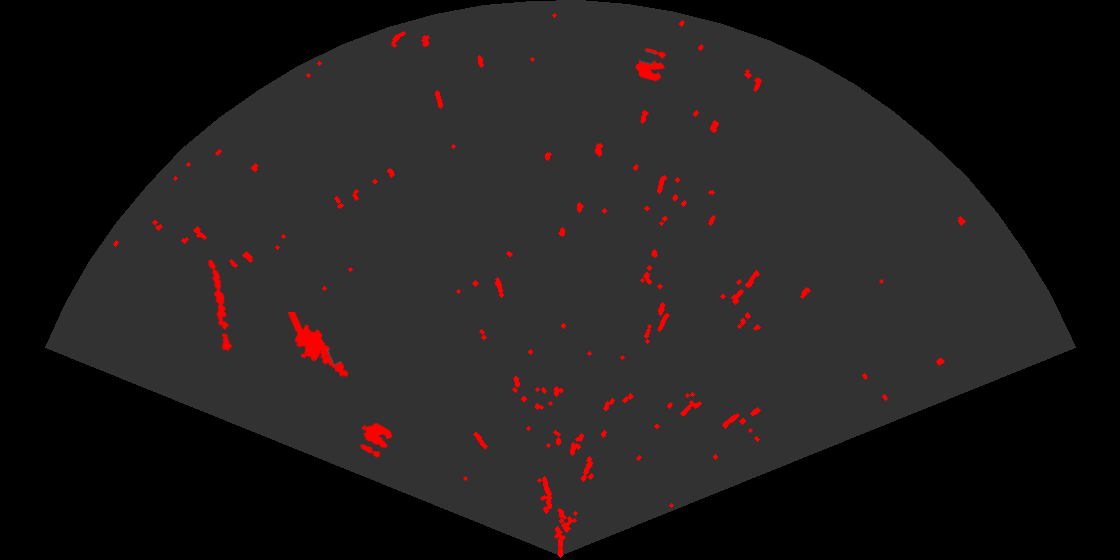ball: (358, 421, 394, 459), (634, 46, 668, 83)
chain: (206, 258, 234, 353)
frogman: (286, 312, 350, 379)
